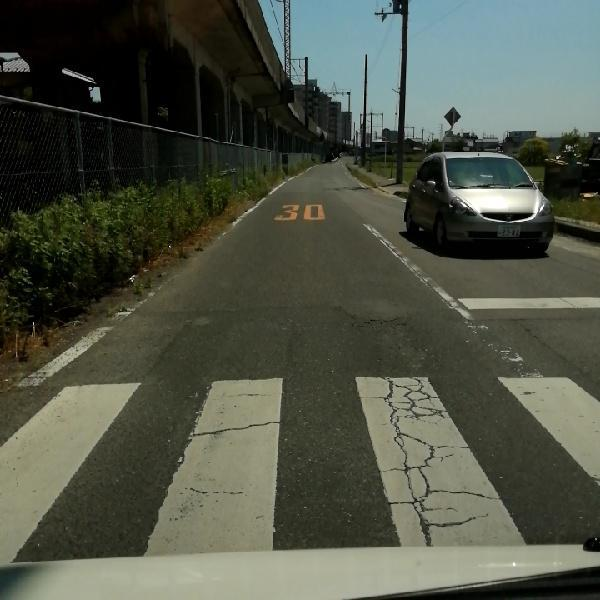D20: (379, 365, 502, 542), (338, 306, 412, 345)
D44: (366, 219, 543, 379)
